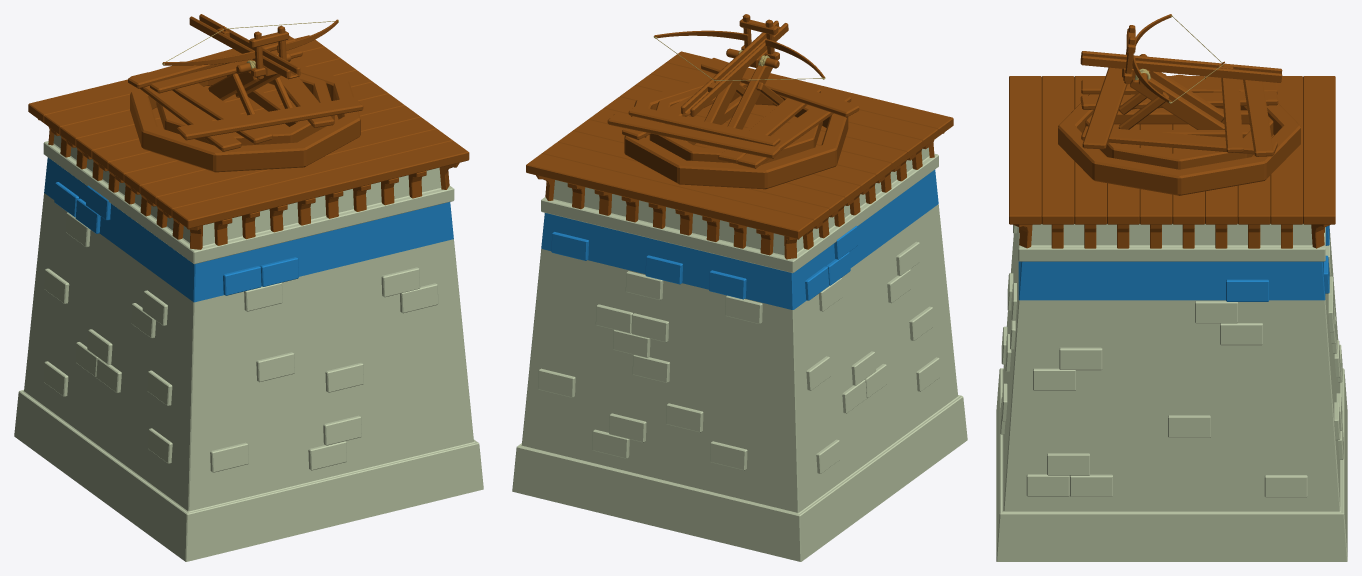
File: ballista1.fbx
3 views of the same model, side by side, from view 1: azimuth 30°, elevation 25°; view 2: azimuth 150°, elevation 25°; view 3: azimuth 270°, elevation 25° (orthographic). The views are drawn at different scales.
Visible parts, largest first — view 1: Cube, Cube.001, Cylinder.001, Cylinder, Cube.051, Cylinder.002; view 2: Cube, Cube.001, Cylinder.001, Cylinder, Cube.051, Cylinder.002; view 3: Cube, Cube.001, Cylinder.001, Cylinder, Cylinder.002, Cube.051.
Boxes of the visible parts, left/top/right/bottom form: Cube: left=14, top=134, right=483, bottom=561; Cube.001: left=28, top=35, right=469, bottom=228; Cylinder.001: left=128, top=36, right=363, bottom=151; Cylinder: left=130, top=61, right=360, bottom=172; Cube.051: left=38, top=119, right=459, bottom=249; Cylinder.002: left=162, top=14, right=338, bottom=79; Cube: left=512, top=147, right=967, bottom=561; Cube.001: left=526, top=51, right=953, bottom=239; Cylinder.001: left=607, top=50, right=859, bottom=168; Cylinder: left=624, top=77, right=848, bottom=189; Cube.051: left=536, top=132, right=944, bottom=259; Cylinder.002: left=653, top=14, right=825, bottom=116; Cube: left=996, top=224, right=1347, bottom=561; Cube.001: left=1009, top=76, right=1335, bottom=224; Cylinder.001: left=1080, top=67, right=1278, bottom=169; Cylinder: left=1058, top=74, right=1300, bottom=195; Cylinder.002: left=1080, top=14, right=1282, bottom=103; Cube.051: left=1013, top=224, right=1330, bottom=248.
Bounding box in the file's own units: 37.51 × 53.75 × 37.51.
